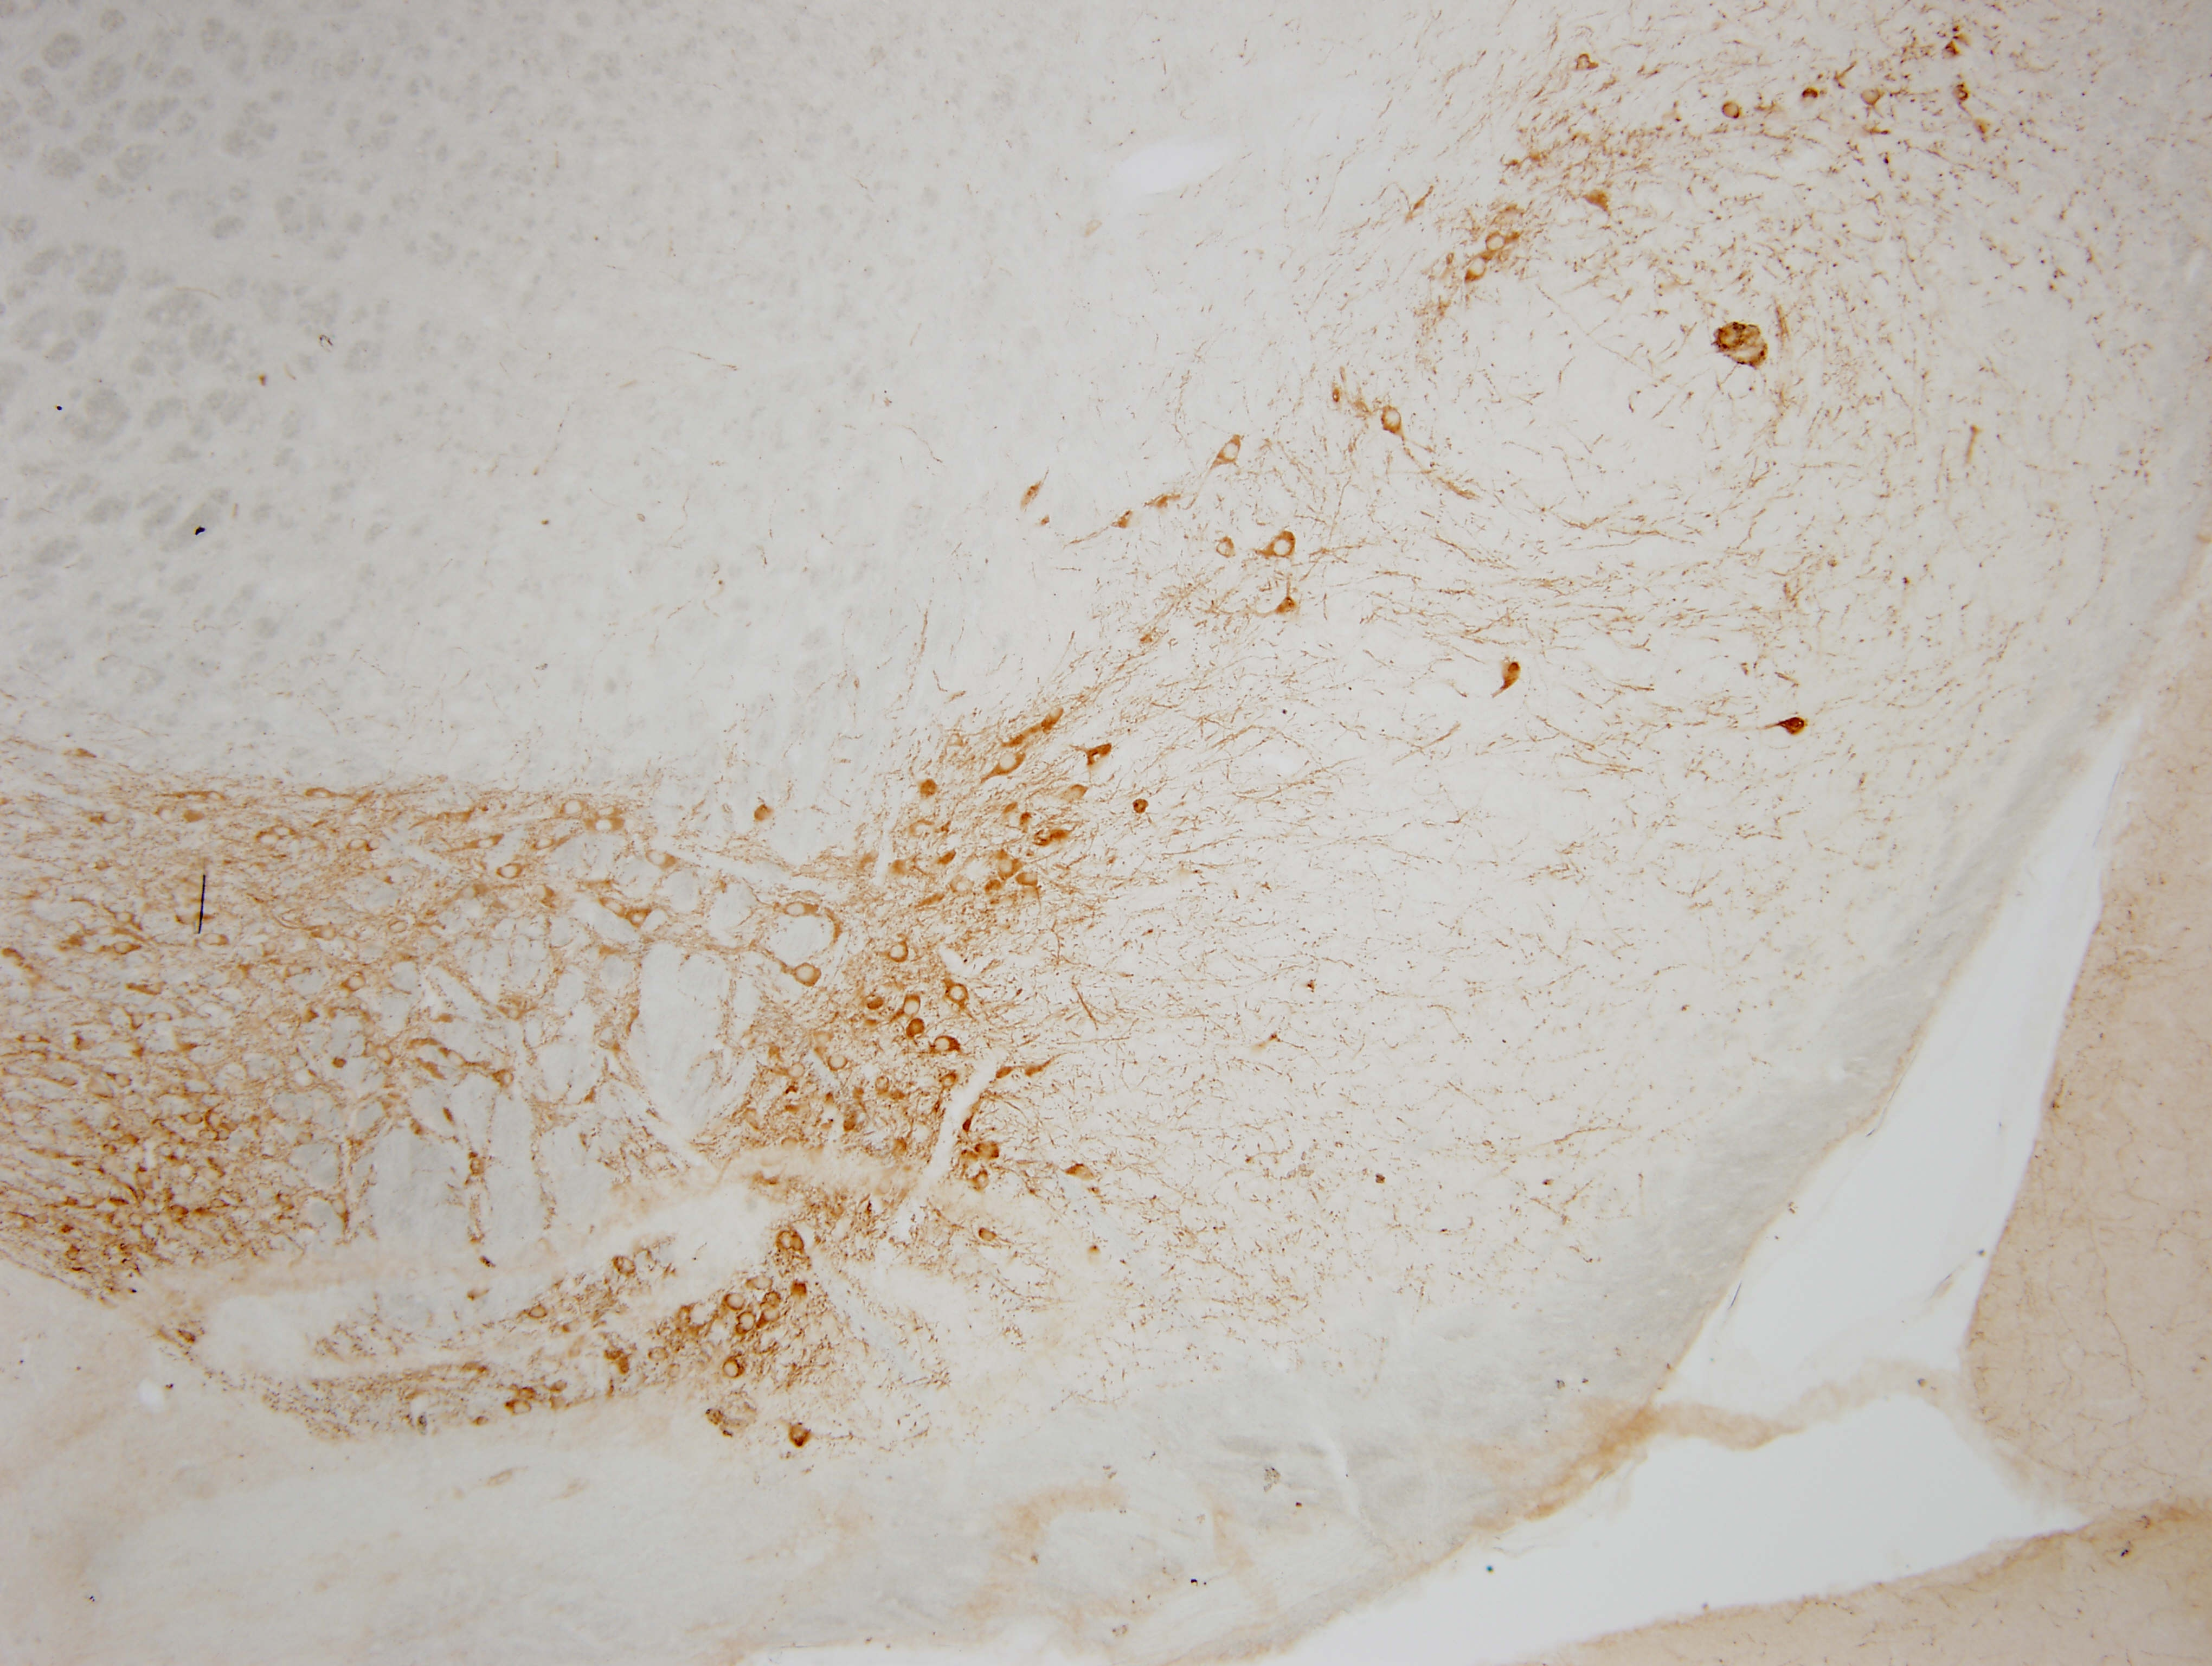neuron: (1374, 404, 1408, 437), (1215, 434, 1247, 467), (1266, 532, 1297, 565), (563, 795, 589, 821), (595, 798, 621, 824), (596, 817, 623, 843), (605, 896, 631, 922), (614, 1253, 640, 1279), (630, 905, 656, 931), (647, 847, 673, 873), (647, 1342, 673, 1369), (724, 1288, 750, 1314), (734, 1309, 761, 1335), (759, 1302, 785, 1328), (785, 1057, 811, 1083), (785, 896, 811, 922), (796, 963, 822, 989), (827, 1050, 853, 1076), (885, 938, 911, 964), (899, 994, 925, 1020), (911, 817, 937, 843), (932, 1032, 958, 1059), (946, 982, 972, 1008), (948, 871, 974, 898), (98, 805, 124, 831), (995, 854, 1021, 880), (997, 747, 1023, 773), (1018, 865, 1044, 891), (1040, 705, 1067, 731), (1063, 784, 1089, 810), (114, 936, 140, 963), (126, 1008, 152, 1034), (133, 1167, 159, 1193), (1465, 256, 1492, 282), (1483, 229, 1509, 256), (152, 1005, 178, 1031), (1719, 102, 1745, 128), (177, 1160, 203, 1186), (180, 1106, 206, 1132), (1862, 82, 1889, 109), (201, 929, 227, 956), (205, 1106, 231, 1132), (19, 1026, 45, 1052), (255, 826, 282, 852), (273, 819, 299, 845), (310, 784, 336, 810), (315, 919, 341, 945), (329, 1195, 355, 1222), (444, 1046, 470, 1073), (455, 878, 481, 905), (474, 830, 500, 856), (498, 859, 525, 886), (528, 1300, 554, 1326), (533, 833, 560, 859), (724, 1355, 748, 1381), (750, 1269, 776, 1293), (771, 1229, 796, 1255), (80, 1153, 105, 1179), (811, 1024, 836, 1050), (873, 1074, 899, 1099), (112, 1067, 136, 1094), (126, 1208, 152, 1232), (143, 976, 170, 1001), (346, 971, 371, 998), (374, 1043, 400, 1067), (388, 914, 414, 938), (509, 1396, 533, 1423), (532, 882, 556, 908), (789, 1232, 810, 1253), (115, 908, 136, 929), (941, 1071, 960, 1092), (217, 1123, 236, 1145), (31, 1209, 51, 1230), (346, 835, 367, 854), (553, 1376, 572, 1395), (65, 1244, 84, 1263), (664, 1362, 684, 1381), (974, 1171, 993, 1190), (979, 1225, 998, 1244), (1217, 539, 1236, 558), (157, 1141, 177, 1160), (199, 1125, 219, 1145), (206, 788, 226, 807), (210, 1193, 229, 1213), (297, 1129, 316, 1148), (362, 1039, 381, 1059), (365, 833, 385, 852), (498, 1069, 518, 1089), (505, 1005, 525, 1024)
